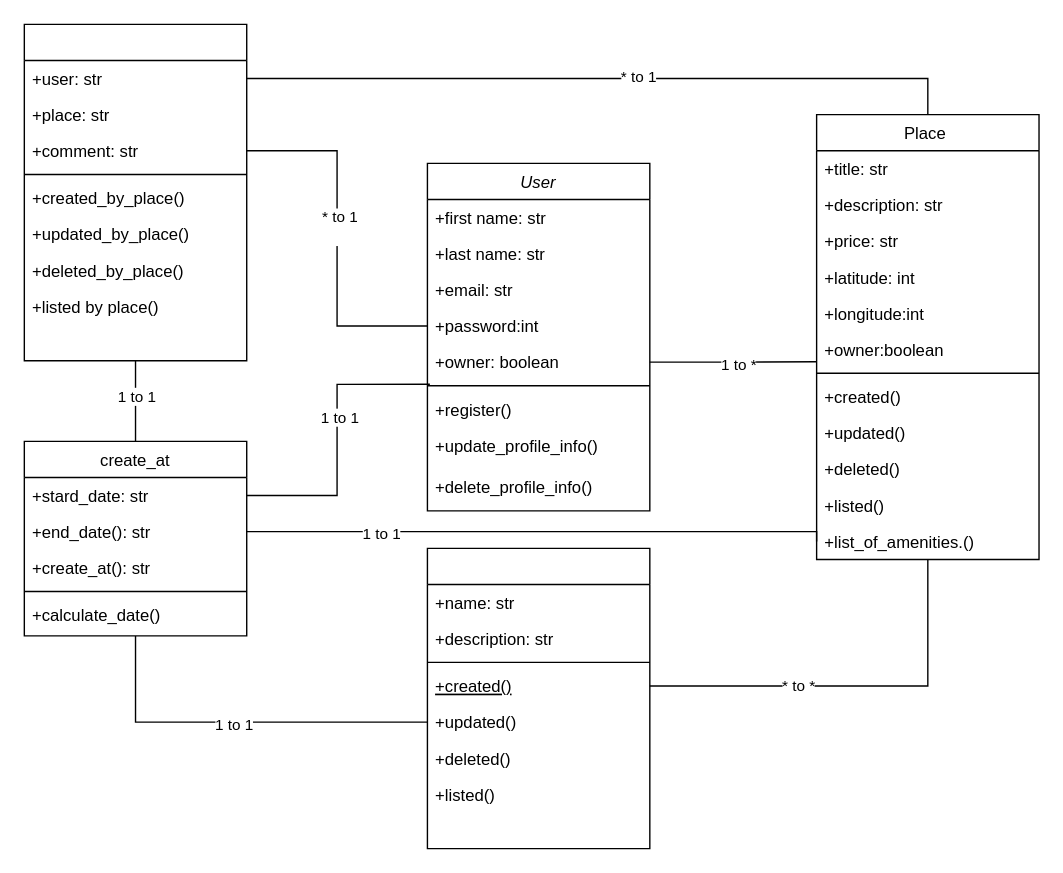
This 1063x873 diagram has some shape labels left out. Each missing label, with the box of its shape:
Amenity: (426, 547, 650, 849)
Review: (23, 23, 247, 361)
